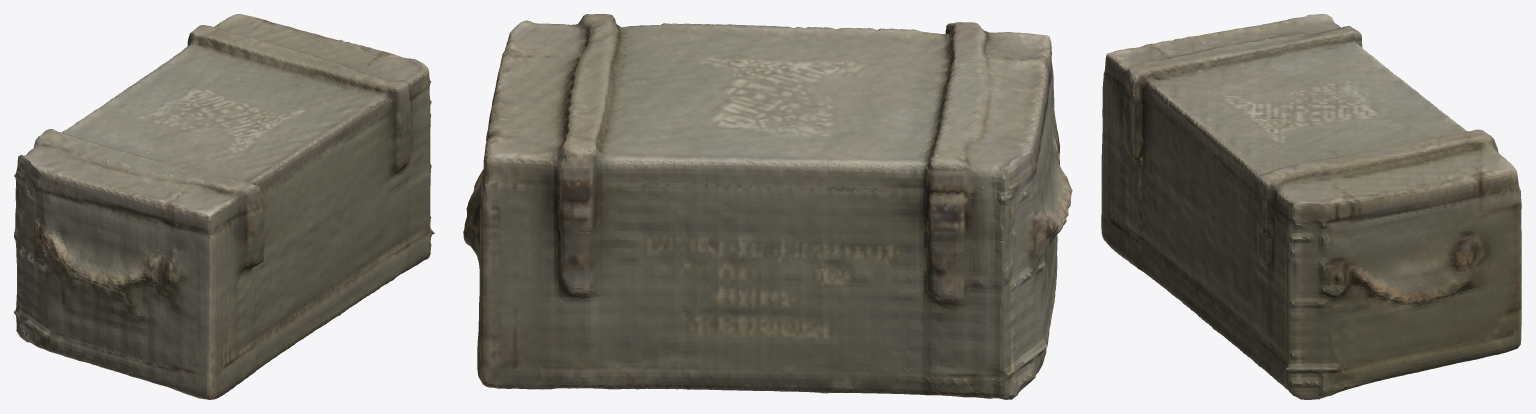
The picture shows the model from 3 angles, left to right: view 1: azimuth 30°, elevation 25°; view 2: azimuth 150°, elevation 25°; view 3: azimuth 270°, elevation 25°; orthographic projection. The views are drawn at different scales.
Visible parts, largest first — view 1: world; view 2: world; view 3: world.
Part boxes in pixels (<box>): world: <box>14,14,434,399</box>; world: <box>463,14,1072,399</box>; world: <box>1101,14,1521,399</box>.
Bounding box in the file's own units: 2 × 0.972 × 1.82.
